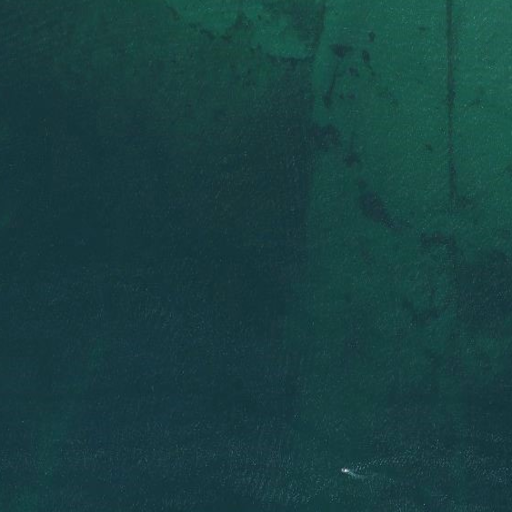ship: (337, 466, 353, 474)
